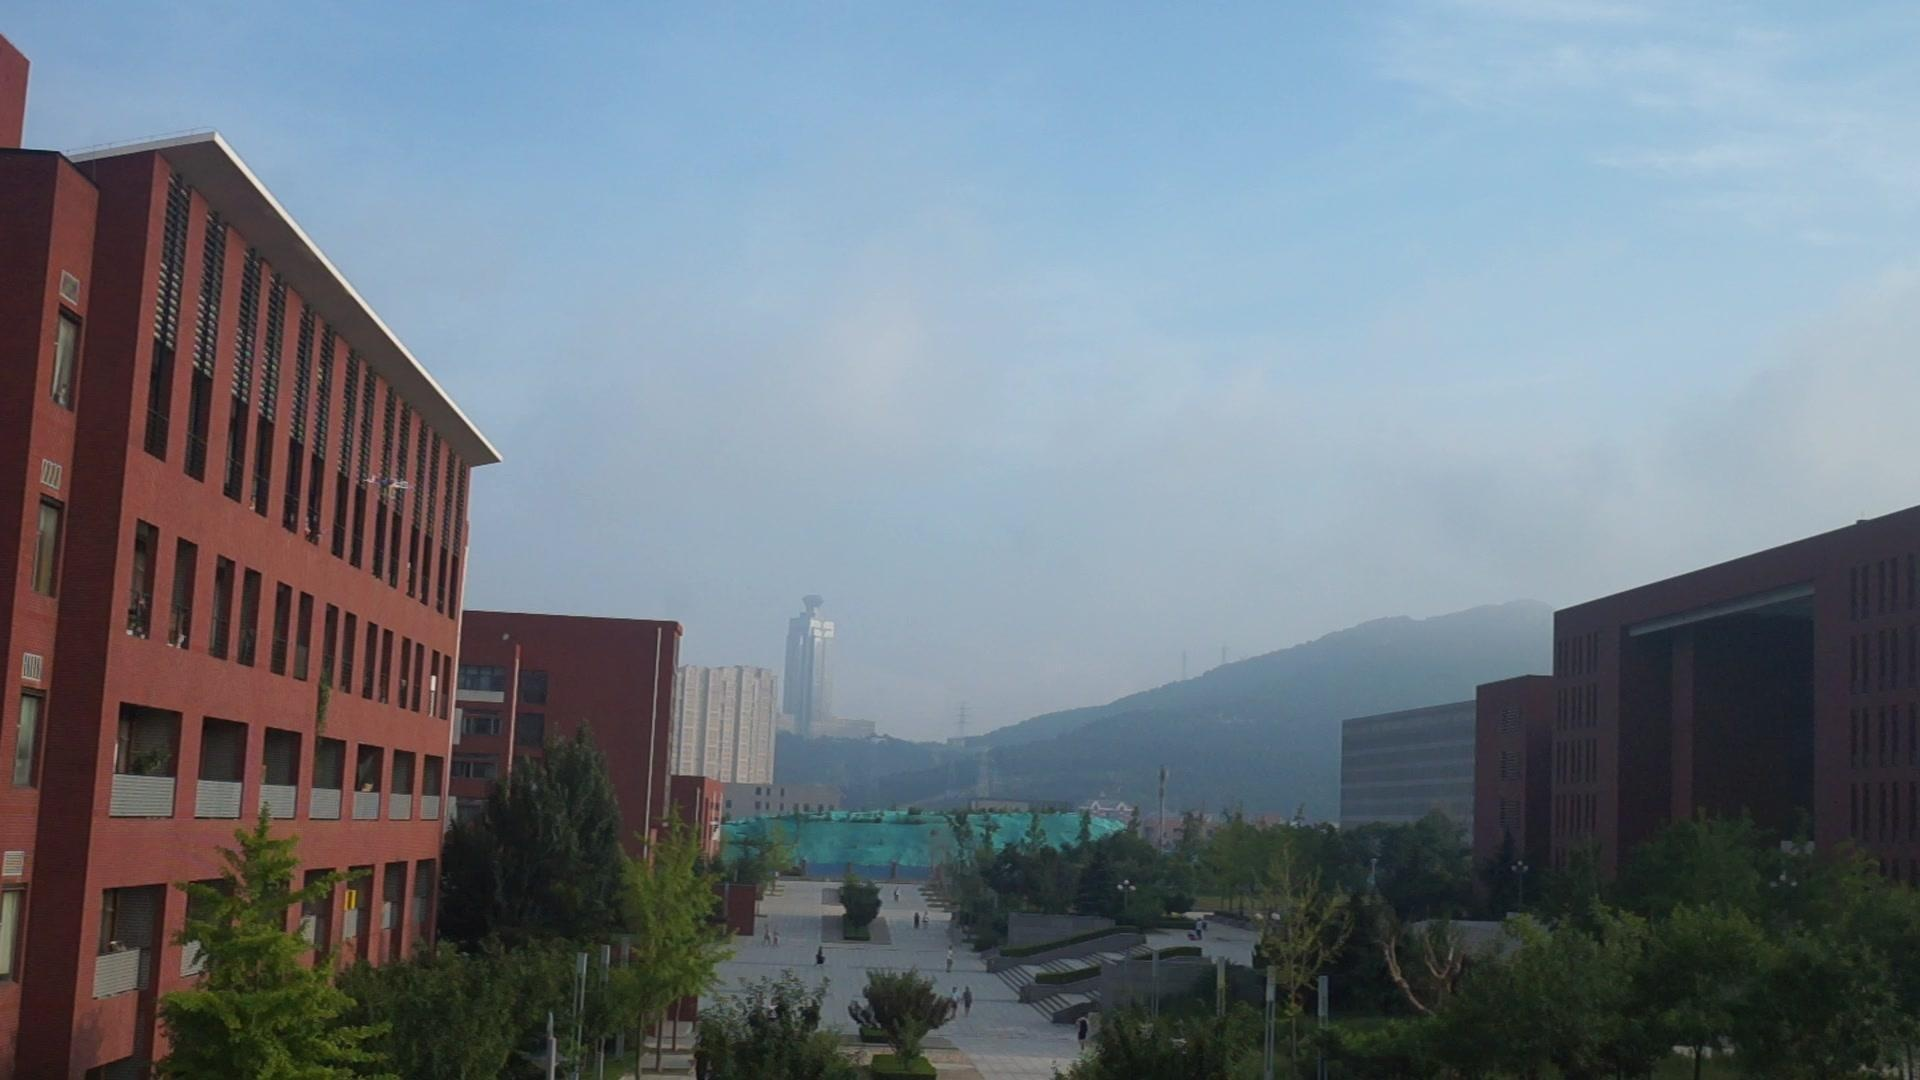UAV: (365, 473, 415, 500)
